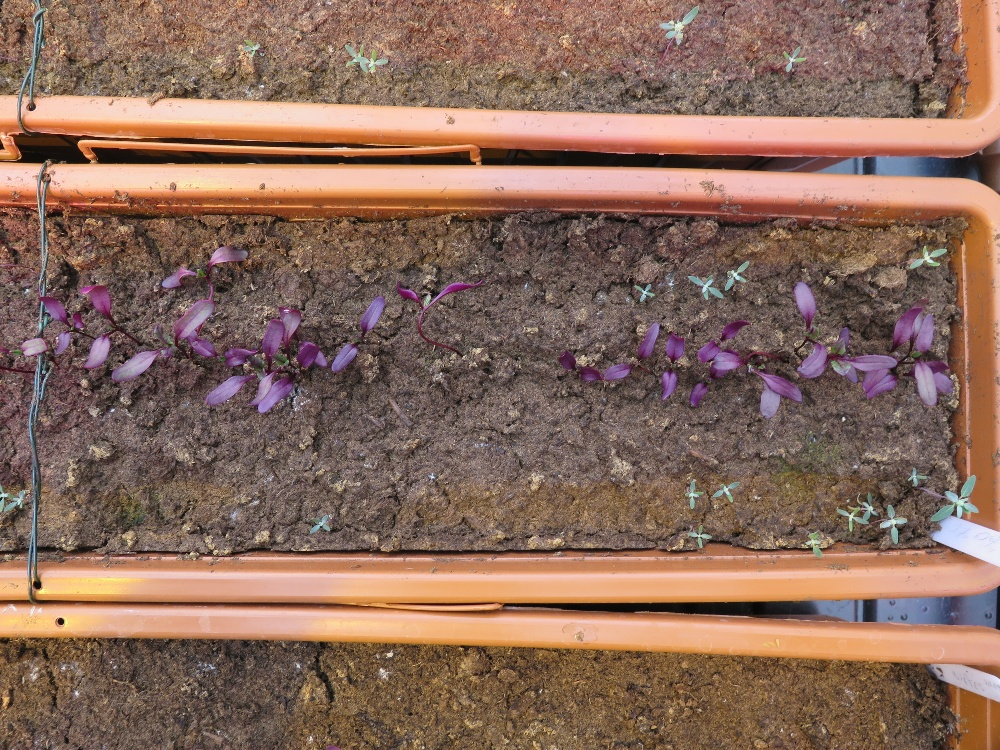crop: (173, 261, 341, 438), (705, 265, 891, 420), (112, 236, 264, 397), (21, 256, 157, 397), (827, 295, 973, 413), (650, 299, 789, 422), (305, 263, 414, 395), (555, 299, 684, 404), (391, 263, 512, 372)
weed: (918, 465, 996, 538), (864, 486, 918, 556), (337, 31, 396, 83), (707, 247, 757, 297), (659, 11, 705, 65), (687, 261, 732, 311), (891, 463, 937, 504), (775, 22, 807, 79), (677, 517, 723, 556), (709, 470, 750, 513), (791, 526, 841, 561), (909, 238, 950, 279), (1, 476, 43, 515), (627, 270, 664, 308), (841, 501, 871, 540), (677, 479, 700, 513), (246, 26, 262, 61)
